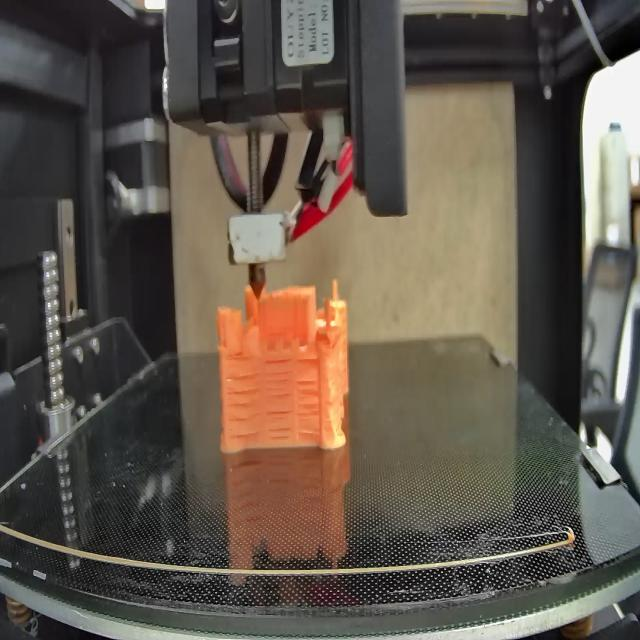cracks: (224, 374, 260, 438), (296, 378, 322, 439), (264, 356, 294, 400), (265, 408, 292, 440), (294, 354, 319, 366)
